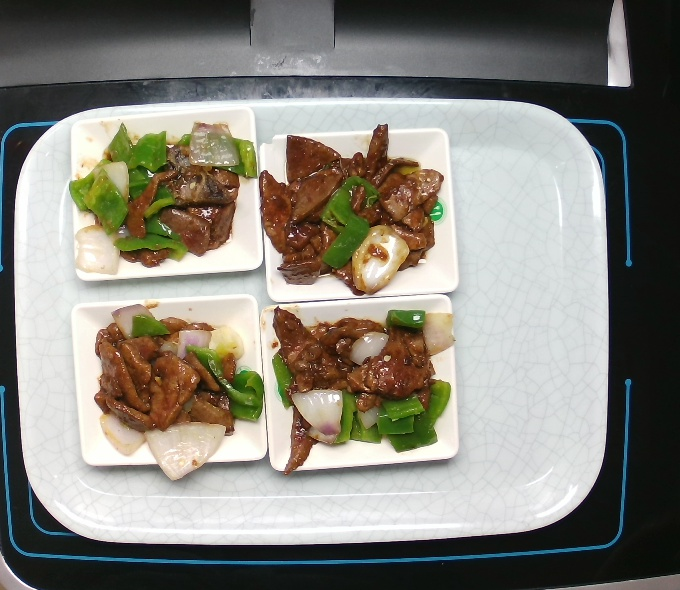wcq-ZhuGan: (263, 292, 467, 475), (83, 290, 267, 480), (256, 115, 446, 296), (63, 108, 261, 279)
